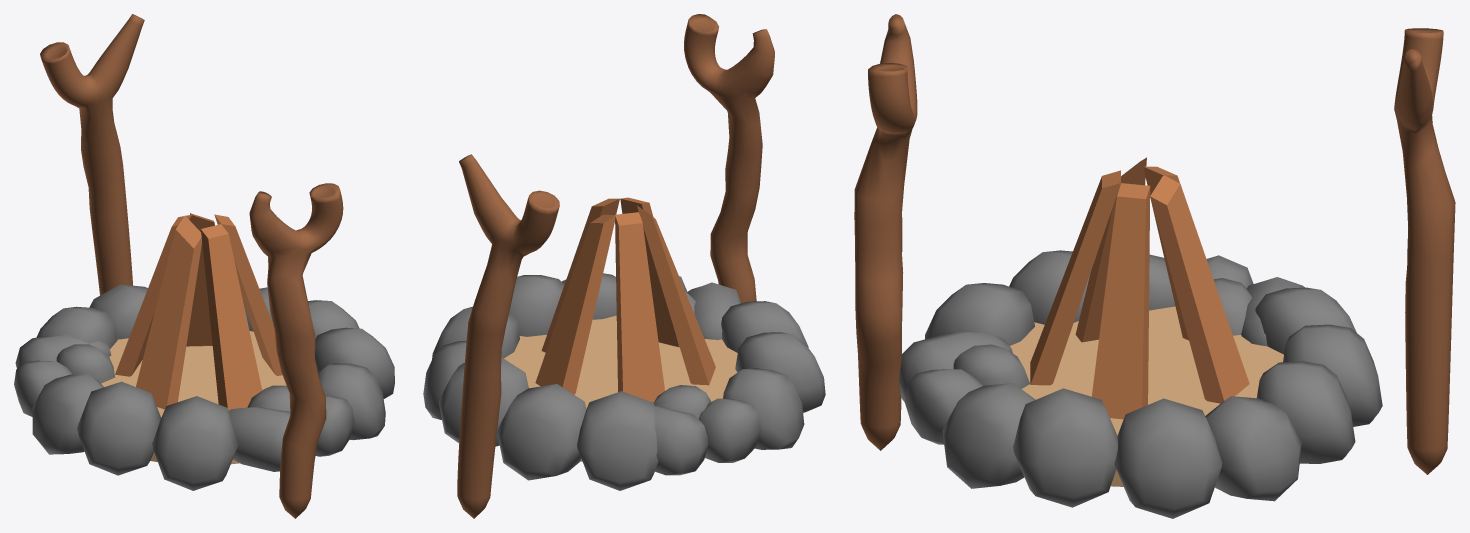
File: campfire.glb
3 renders of one model, left to right at view 1: azimuth 30°, elevation 25°; view 2: azimuth 150°, elevation 25°; view 3: azimuth 270°, elevation 25°, orthographic. The views are drawn at different scales.
Visible parts, largest first — view 1: campfire; view 2: campfire; view 3: campfire.
Boxes of the visible parts, left/top/right/bottom form: campfire: left=14, top=14, right=394, bottom=518; campfire: left=423, top=14, right=825, bottom=518; campfire: left=854, top=14, right=1455, bottom=518.
Bounding box in the file's own units: 3.67 × 3.63 × 4.58.
